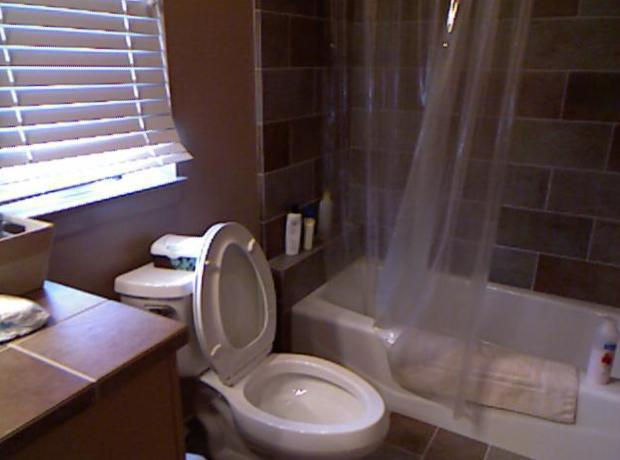Sanitario: (129, 218, 398, 459)
